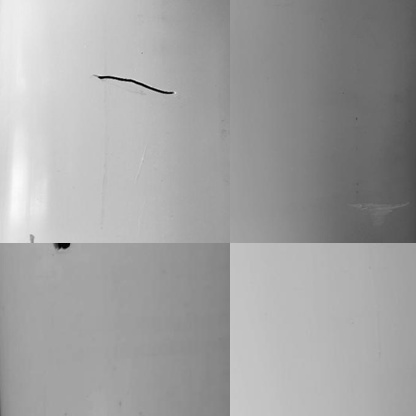fengxi: (94, 70, 182, 102)
kongdong: (52, 240, 77, 252)
